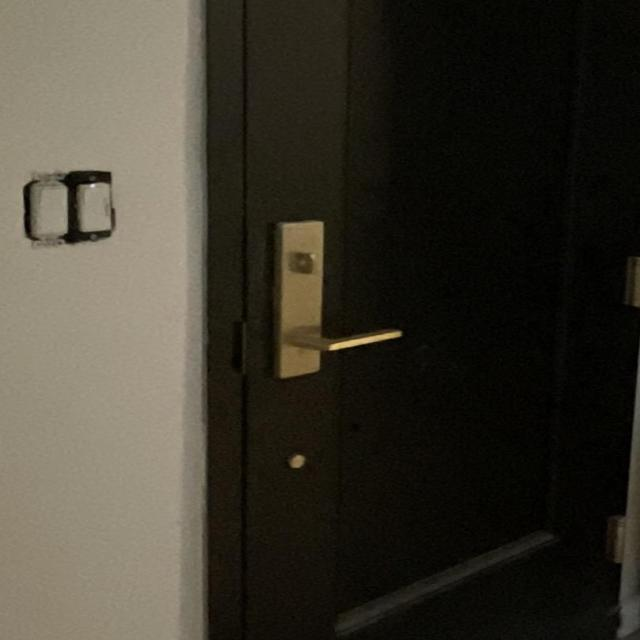door_handle: (264, 308, 414, 363)
